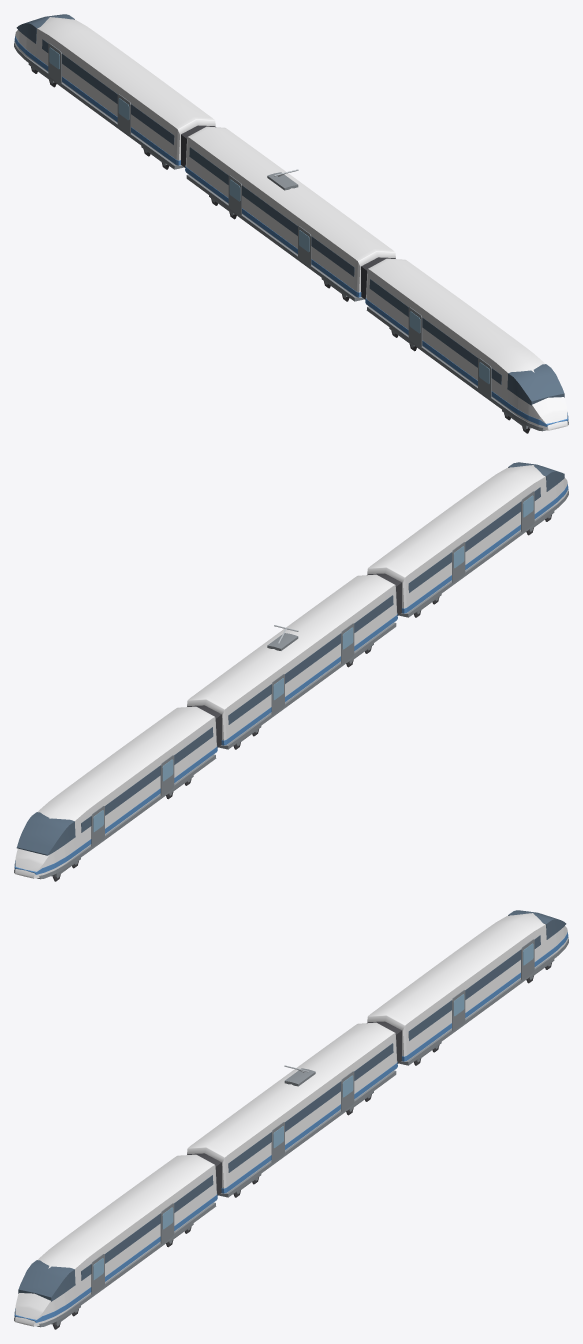
The model's file is train.glb.
3 renders of one model, top to bottom at view 1: azimuth 30°, elevation 25°; view 2: azimuth 150°, elevation 25°; view 3: azimuth 330°, elevation 25°, orthographic.
Visible parts, largest first — view 1: voiture_1, voiture_2, voiture_3; view 2: voiture_3, voiture_2, voiture_1; view 3: voiture_1, voiture_2, voiture_3.
Boxes of the visible parts, x1,y1,x2,y2 form: voiture_1: [361, 257, 568, 433]; voiture_2: [181, 125, 395, 301]; voiture_3: [14, 14, 215, 169]; voiture_3: [14, 706, 217, 881]; voiture_2: [187, 574, 397, 749]; voiture_1: [367, 462, 568, 617]; voiture_1: [14, 1153, 221, 1329]; voiture_2: [187, 1021, 401, 1197]; voiture_3: [367, 910, 568, 1065].
Size of the model in its own units: 2.96 by 4.68 by 61.6.
